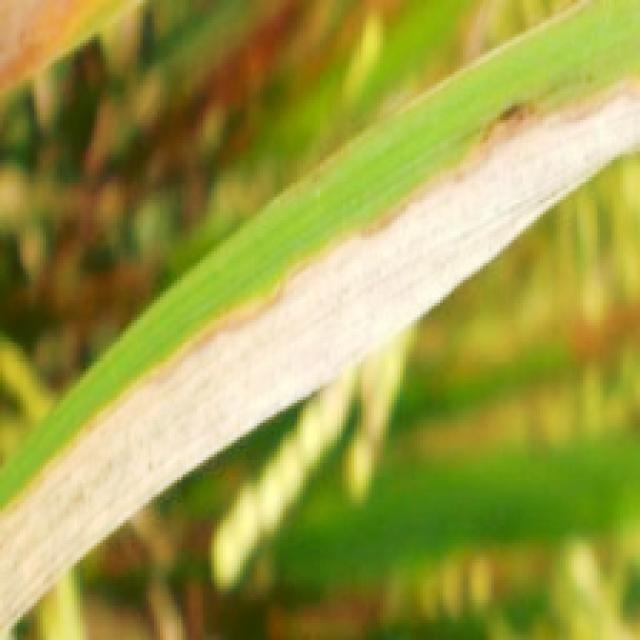unhealth: (0, 43, 634, 640)
